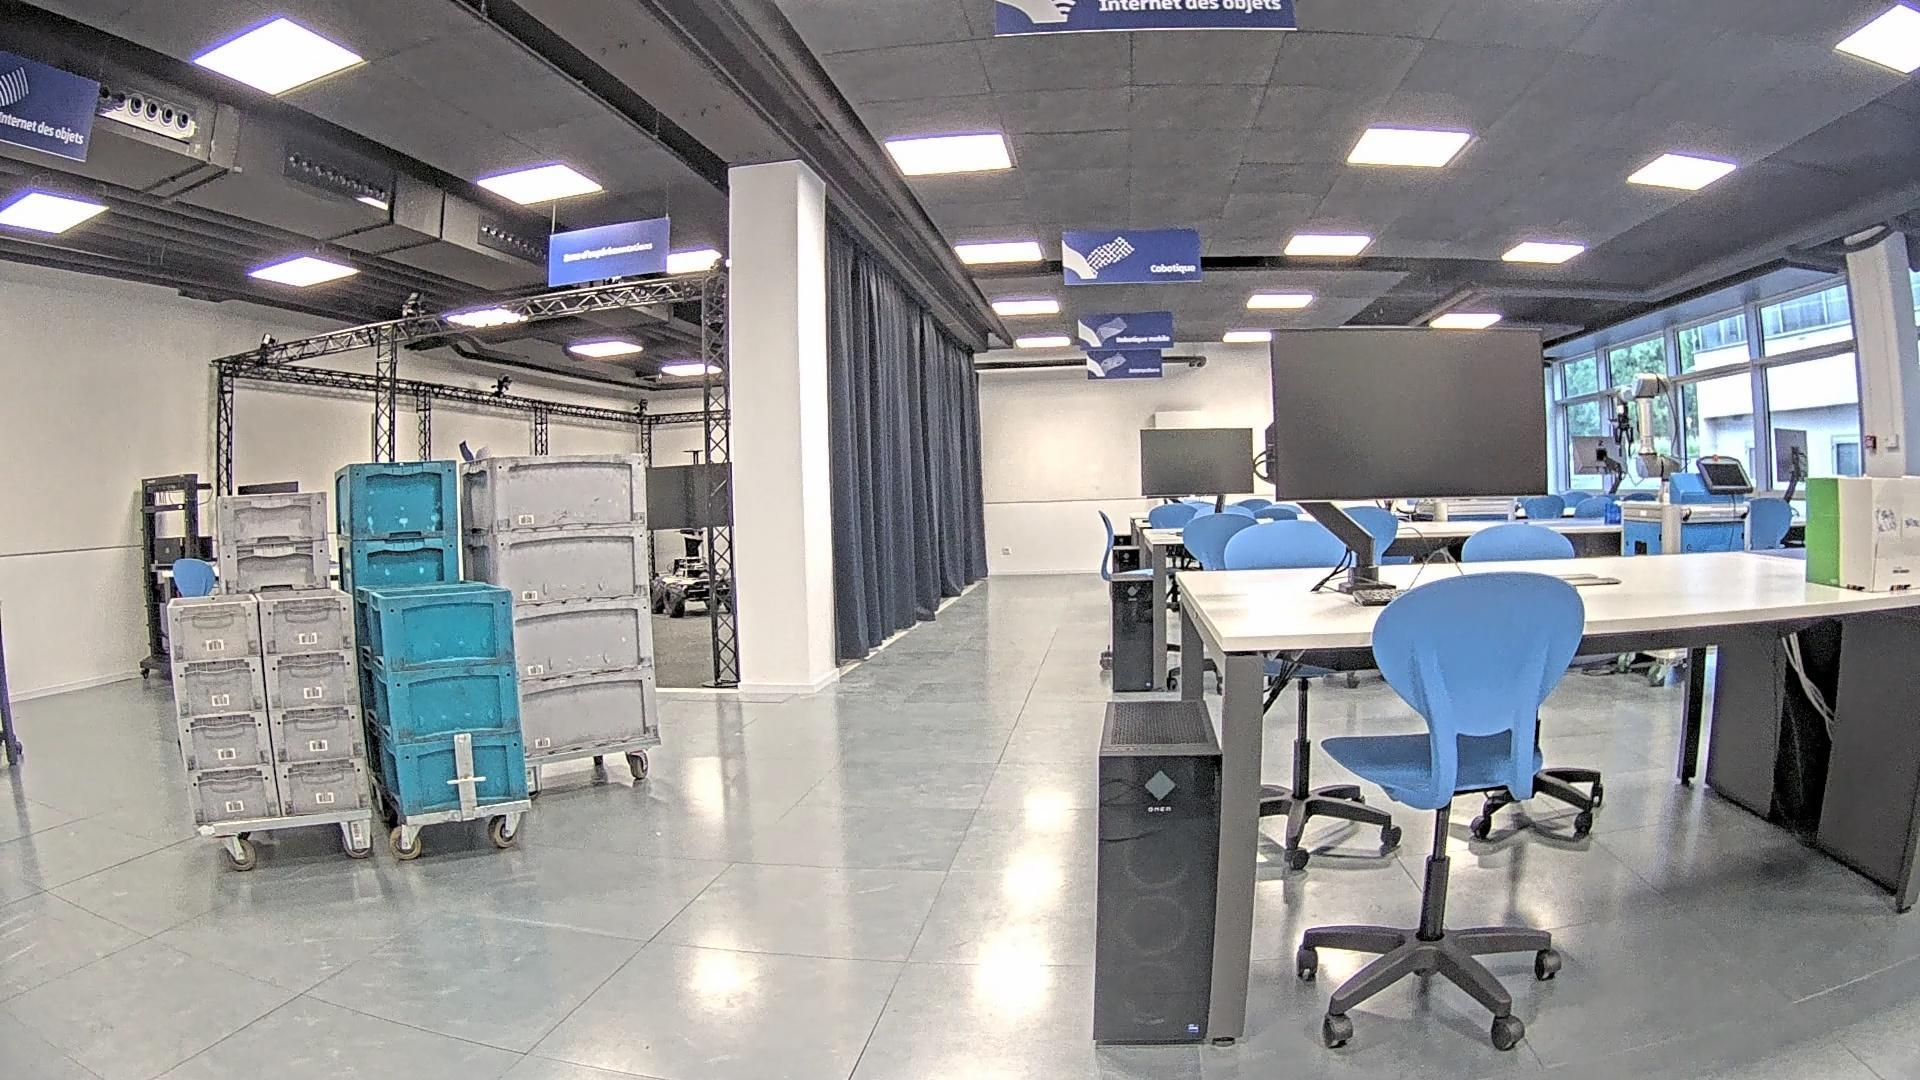Box3G: (215, 489, 334, 764)
Box4G: (456, 450, 666, 771)
Box8G: (164, 585, 373, 828)
BoxB4: (331, 456, 465, 779)
BoxB8: (353, 582, 531, 819)
